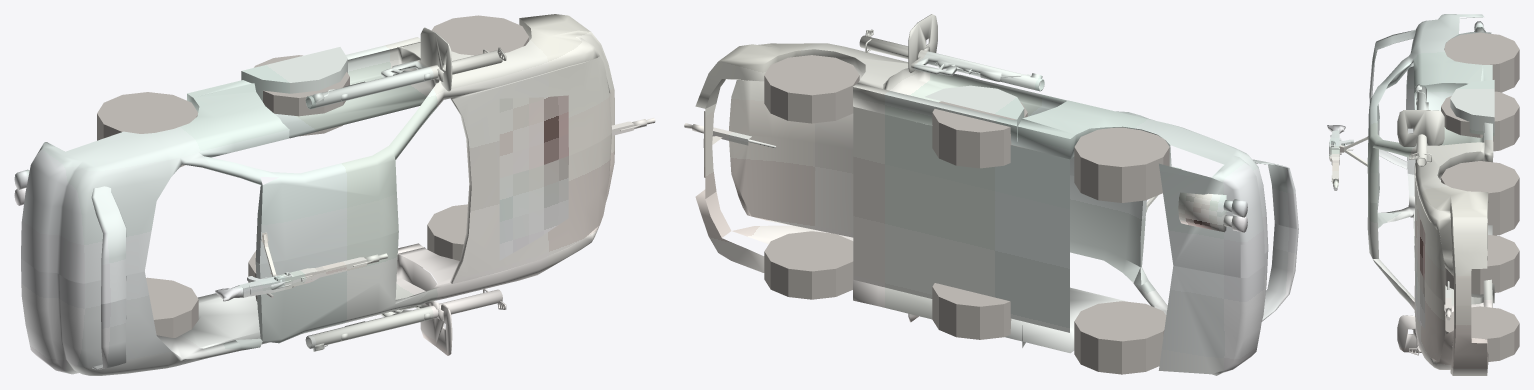
Rendered from defaultvehicle.glb.
3 views of the same model, side by side, from view 1: azimuth 30°, elevation 25°; view 2: azimuth 150°, elevation 25°; view 3: azimuth 270°, elevation 25° (orthographic). The views are drawn at different scales.
Size of the model in its own units: 210 by 102 by 73.26.
1 material, 1 textured.
